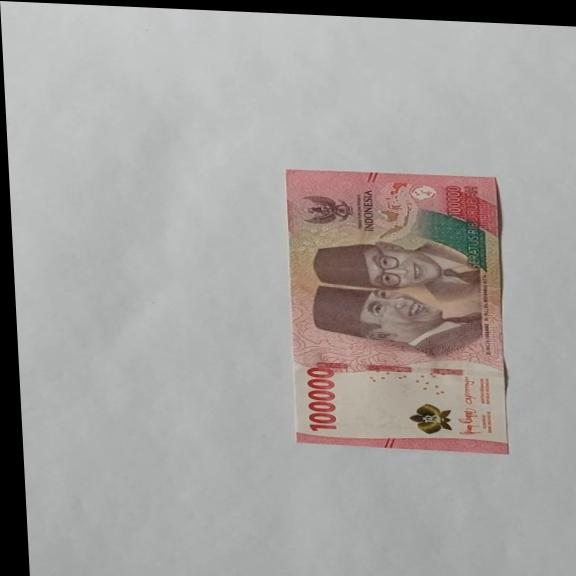Kertas: (280, 166, 512, 454), (302, 365, 340, 433)
